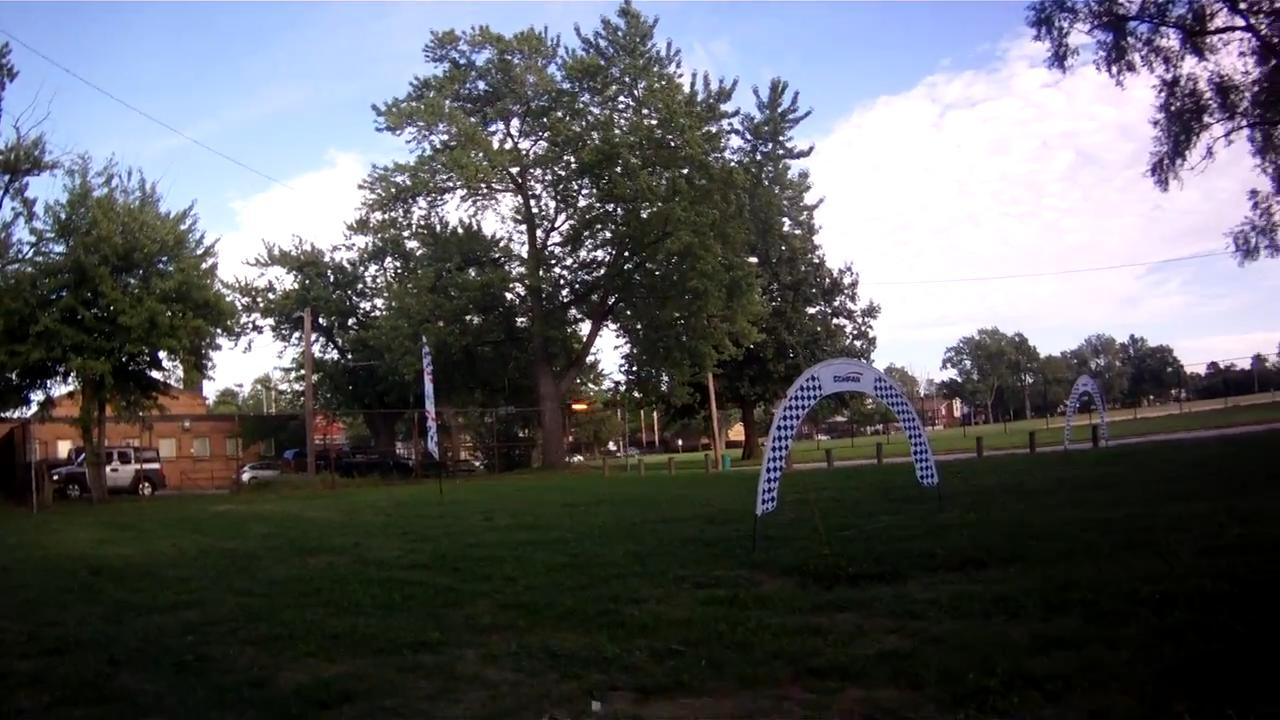gate: (754, 355, 941, 518)
